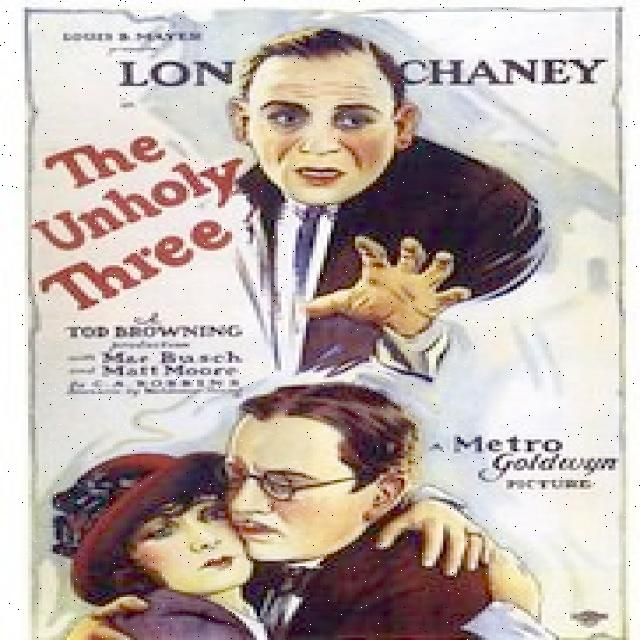movie-judul: (33, 126, 253, 314)
picture: (69, 392, 530, 640), (227, 36, 539, 350)
